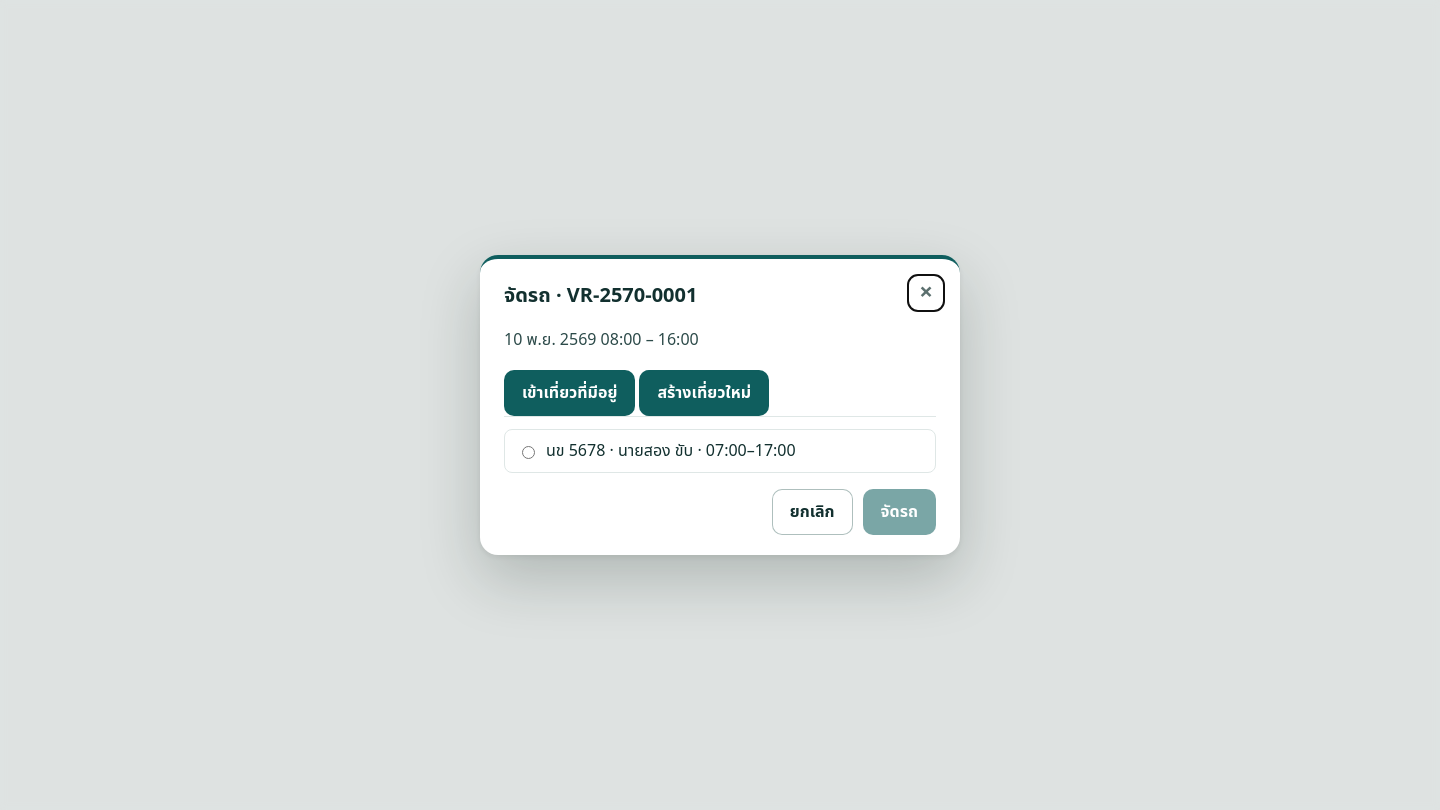
AssignDialog › shows the Thai text for a conflict
Click the tab "สร้างเที่ยวใหม่" at (704, 393), box 639,370 -> 769,416
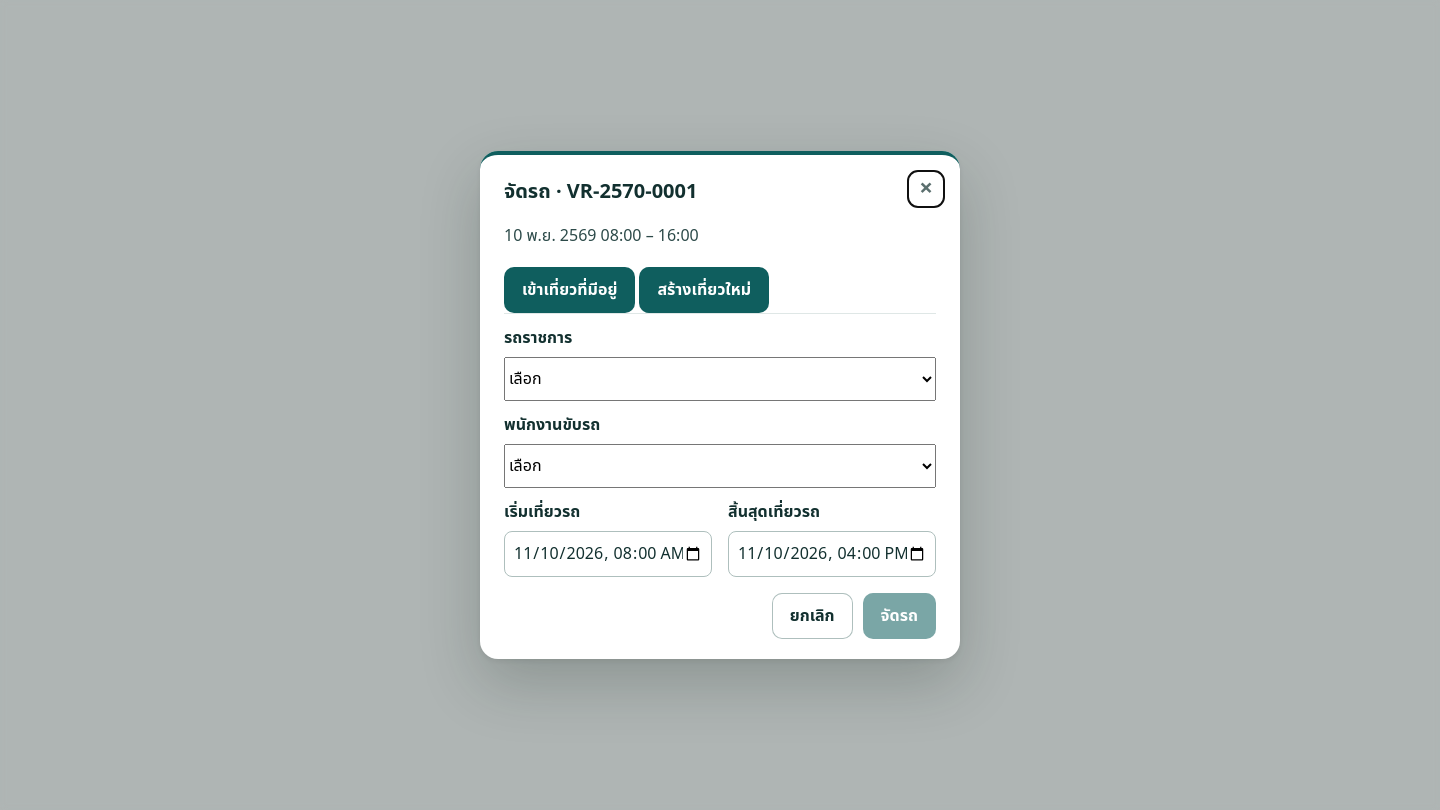
Select "กข 1234 · Toyota Commuter · ตู้ 12 ที่นั่ง" in the dropdown labelled "รถราชการ" at (720, 379), box 504,357 -> 936,401
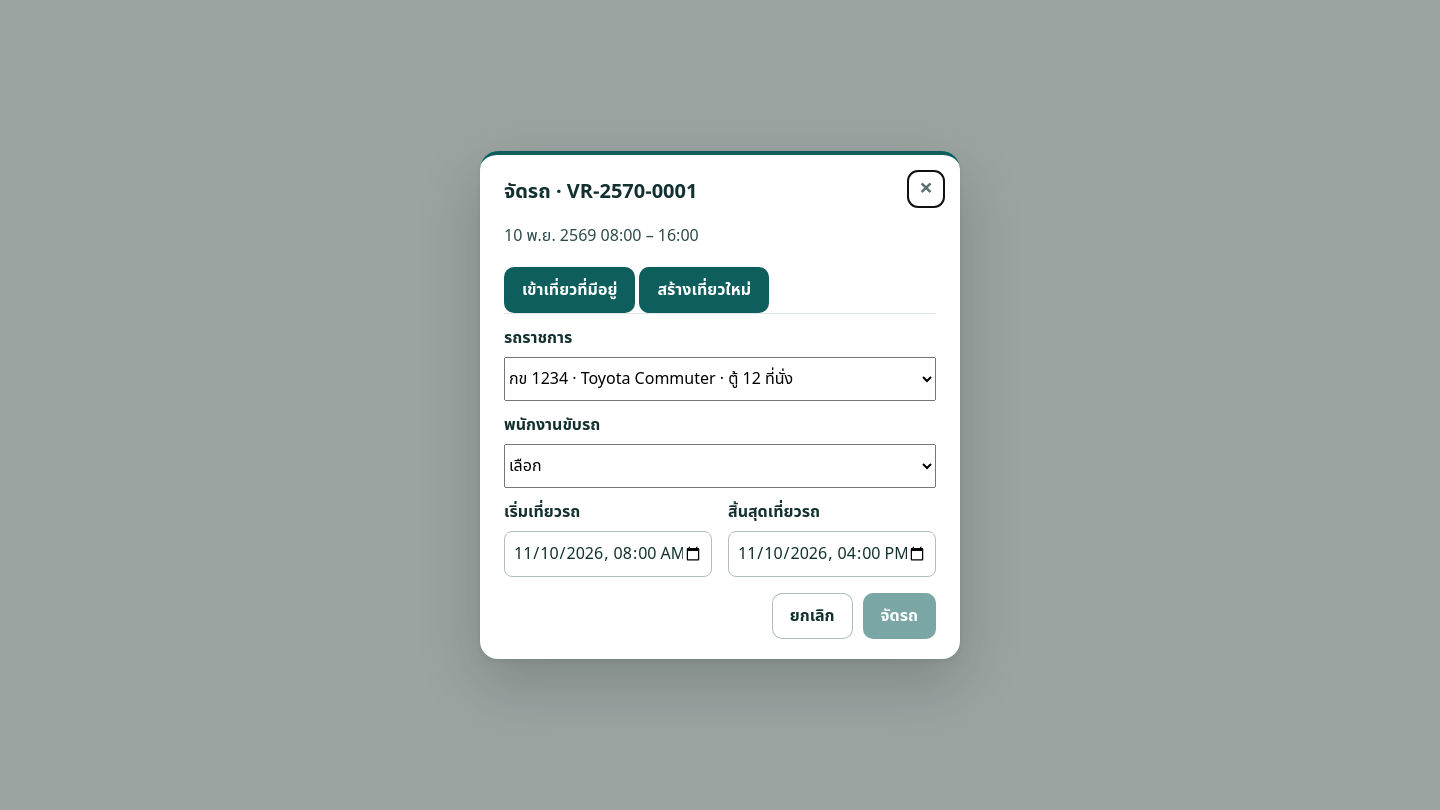
Select "นายขับ ดี" in the dropdown labelled "พนักงานขับรถ" at (720, 466), box 504,444 -> 936,488
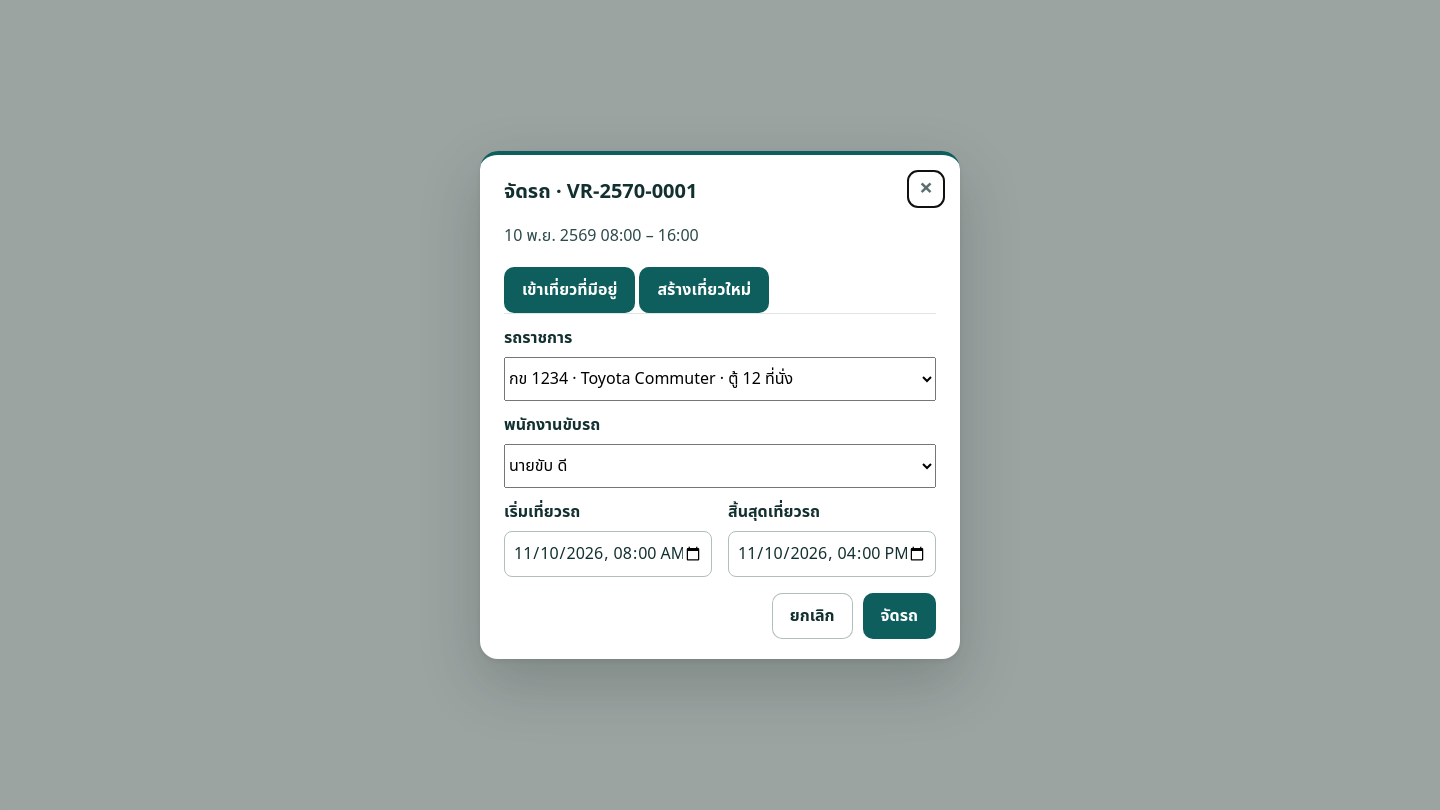
Click the button "จัดรถ" at (899, 616), box 863,593 -> 936,639
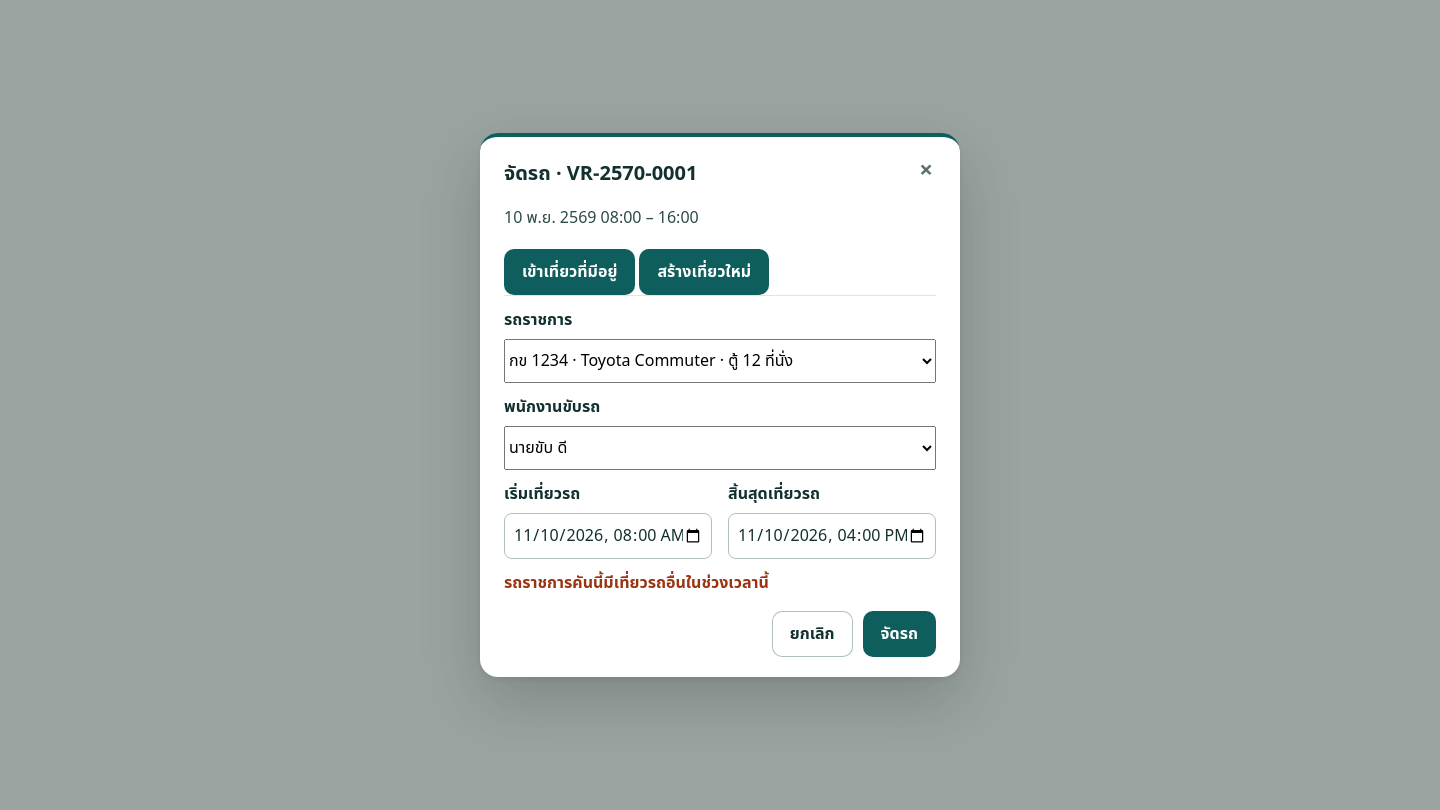
Now the message reads "รถราชการคันนี้มีเที่ยวรถอื่นในช่วงเวลานี้", box 504,571 -> 769,595
